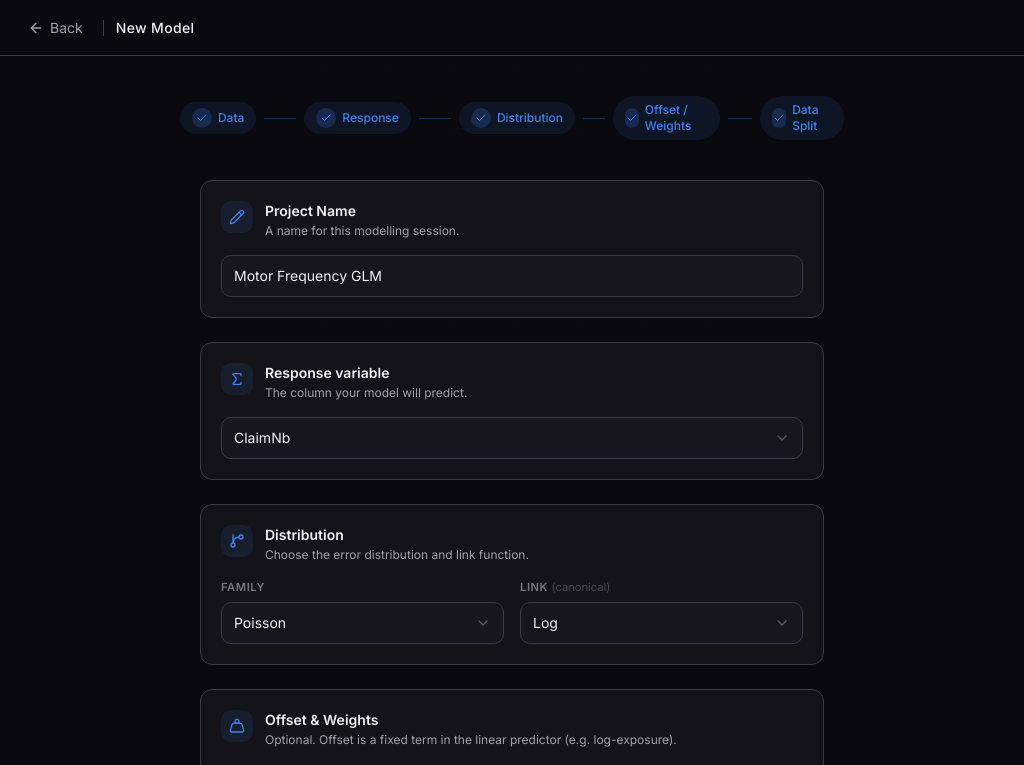
Test: ModelConfigPage — with previous config › clearing project name disables continue
// Clear the name
Clear the field with placeholder "e.g. Freq GLM – Motor 2025" at point(512, 276), box [221, 255, 803, 297]
(page scrolled)
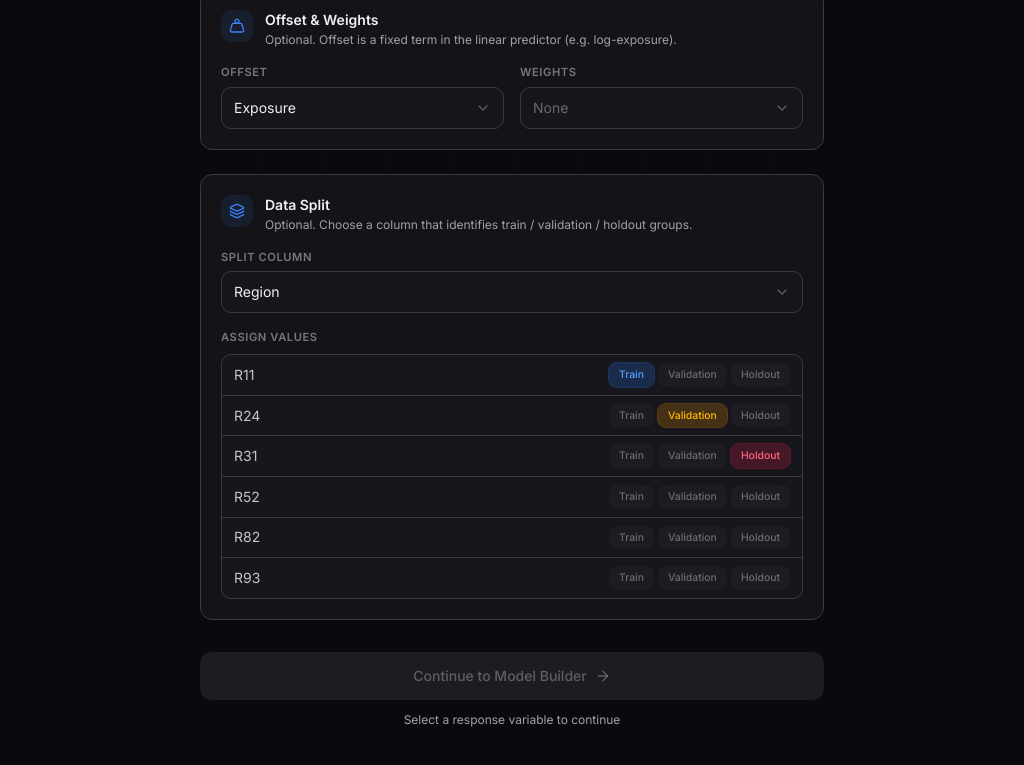
Expected: the button "Continue to Model Builder" is disabled, [200, 652, 824, 700]
